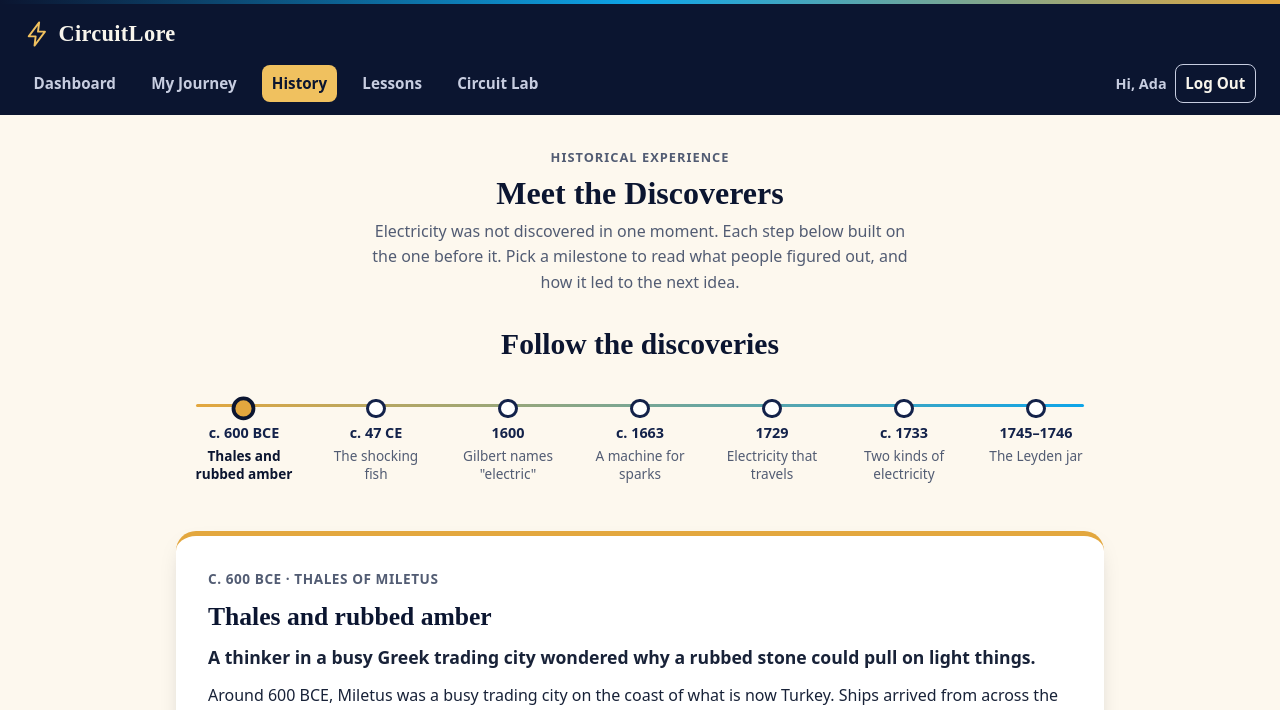
Test: Navigation by sign-in state › signs a student out from the navbar and returns them to the public home page
The width and height of the screenshot is (1280, 710).
Click the button "Log Out".
click(1215, 83)  # box top-left (1175, 64), bottom-right (1256, 103)
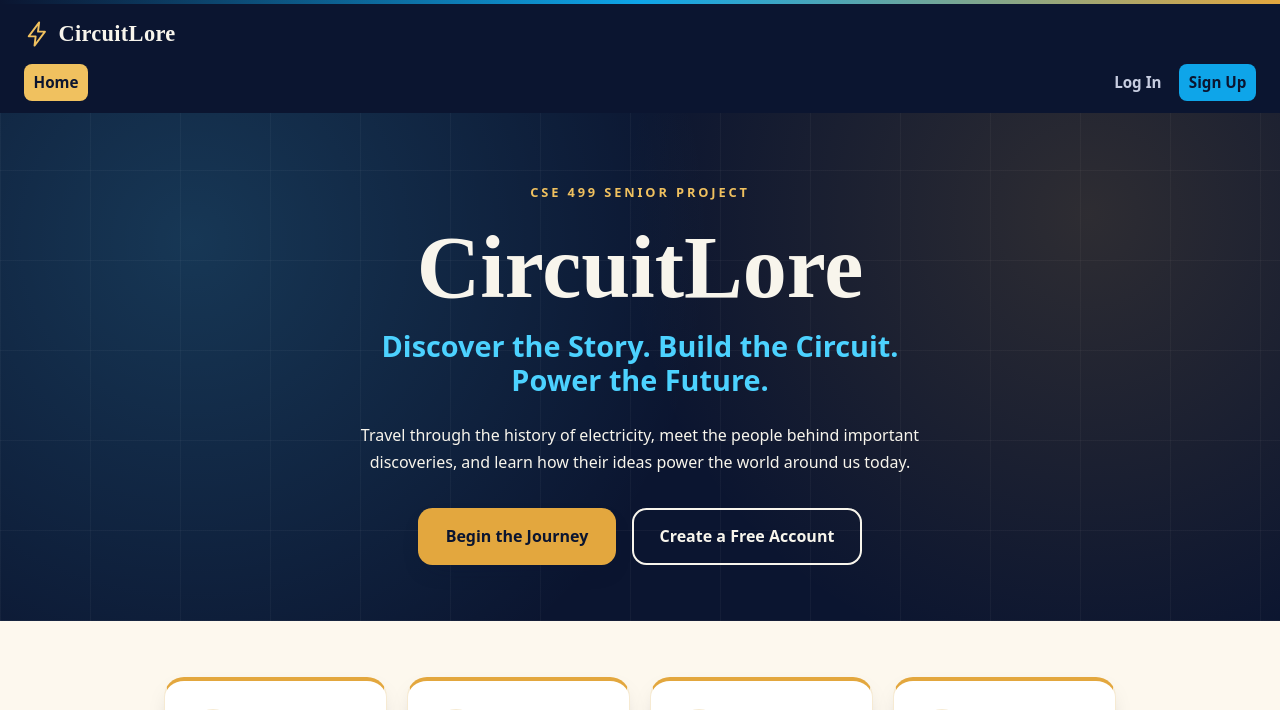
Result: the heading "CircuitLore" is shown at top-left (417, 219), bottom-right (863, 316)
Result: the link "Log In" is shown at top-left (1114, 72), bottom-right (1162, 92)
